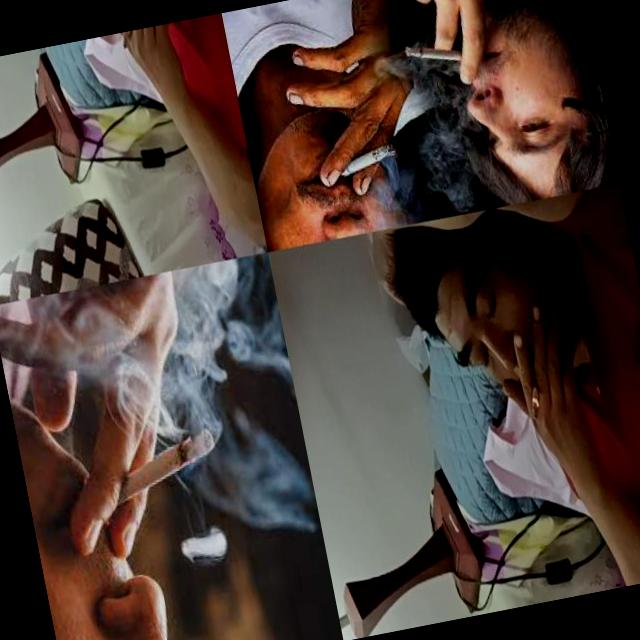smoke: (76, 427, 223, 521), (403, 34, 476, 74), (336, 142, 399, 178), (524, 373, 544, 419), (120, 30, 140, 50)
